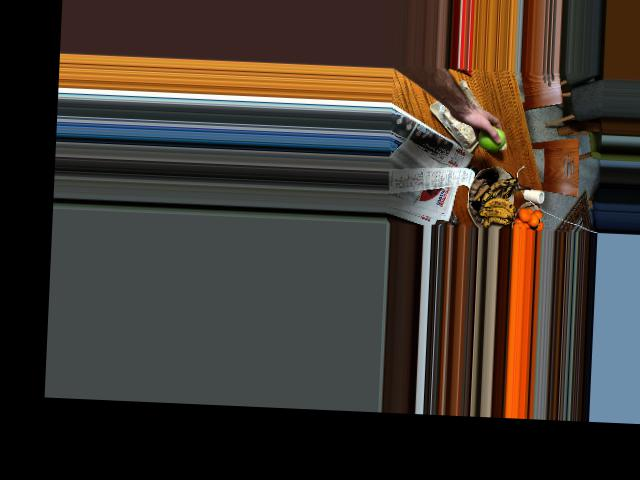apple: (476, 125, 506, 152)
